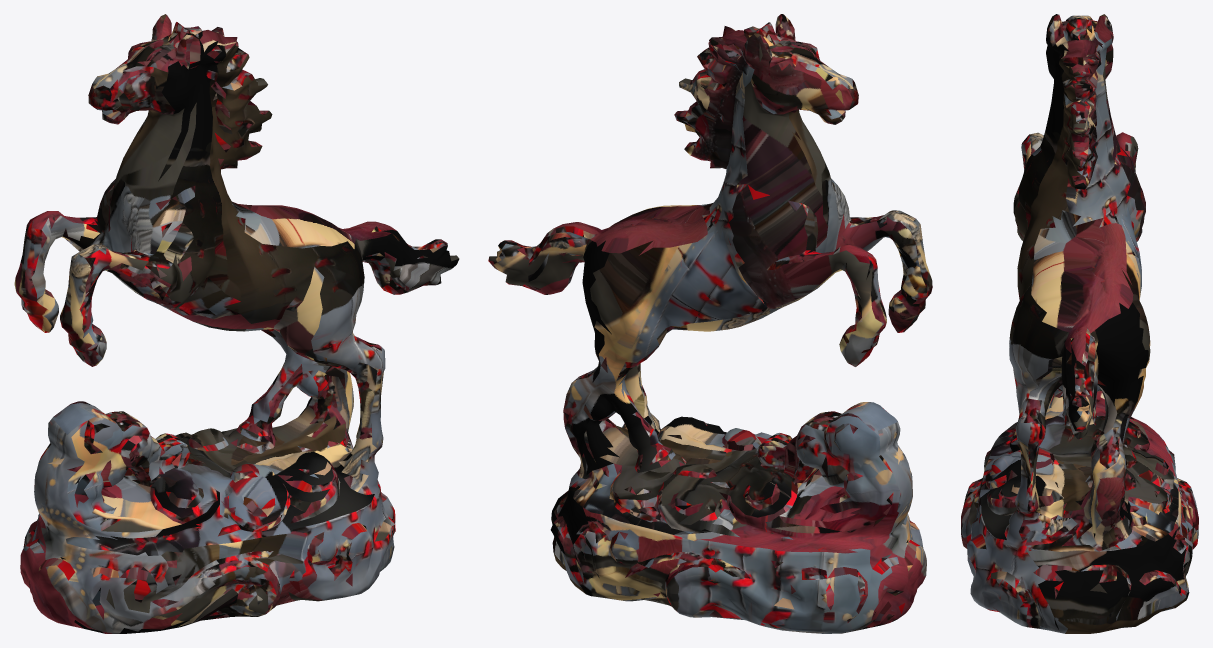
File: guofengscp1.fbx
The picture shows the model from 3 angles, left to right: view 1: azimuth 30°, elevation 25°; view 2: azimuth 150°, elevation 25°; view 3: azimuth 270°, elevation 25°; orthographic projection. The views are drawn at different scales.
Visible parts, largest first — view 1: Mesh_0; view 2: Mesh_0; view 3: Mesh_0.
Boxes of the visible parts, x1,y1,x2,y2 form: Mesh_0: (14,14,459,633); Mesh_0: (488,14,932,633); Mesh_0: (961,14,1198,633).
Bounding box in the file's own units: 0.7891 × 1 × 0.4092.
